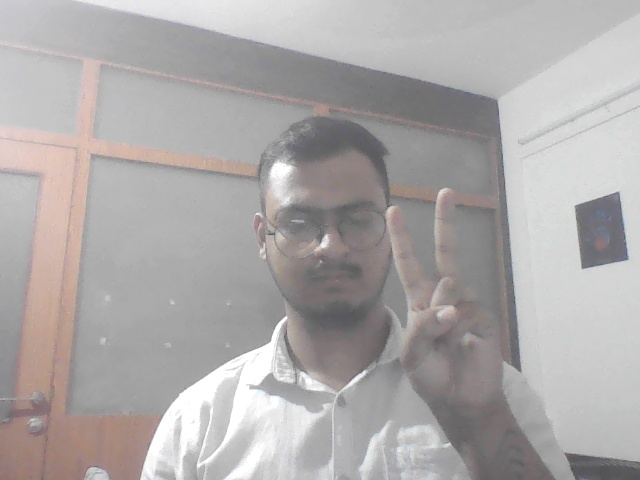Peace: (377, 176, 513, 408)
